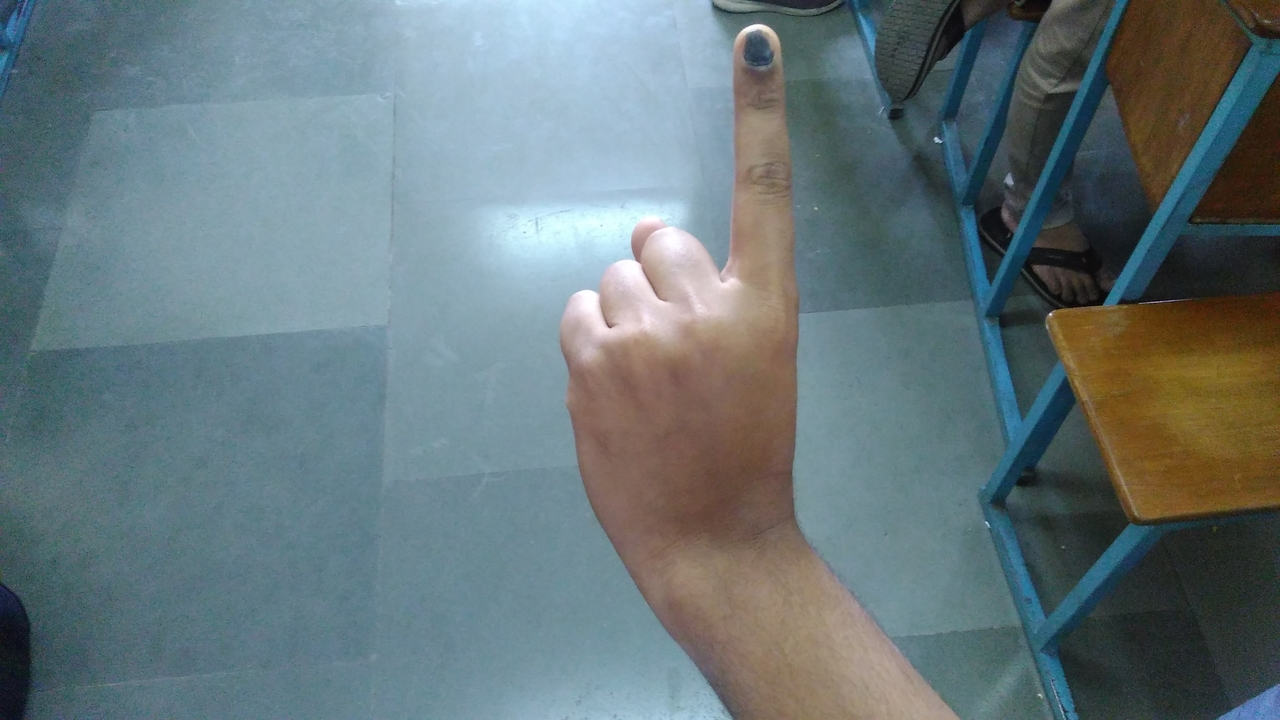fingertip: (730, 20, 788, 70)
